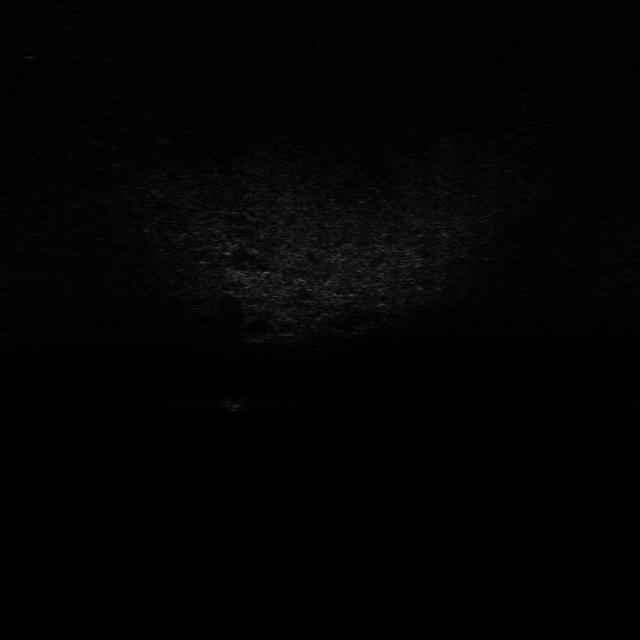cube: (221, 390, 248, 415)
